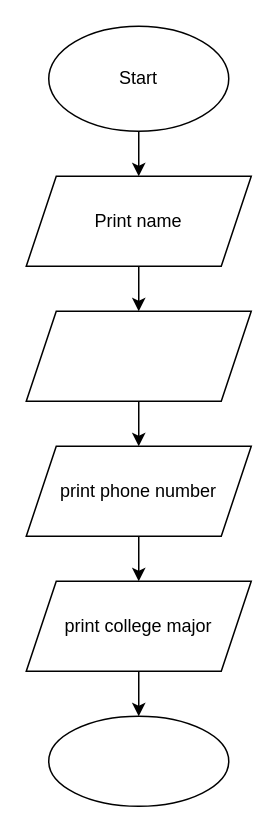
Some shapes in this 278 by 833 pixel diagram are drawn without their labels. The shapes that lost their labels are listed below. From the top down, each one's box as (x1, y1, x2, y2) in pixels, then its label:
(25, 310, 251, 401): print address
(47, 715, 229, 806): End
